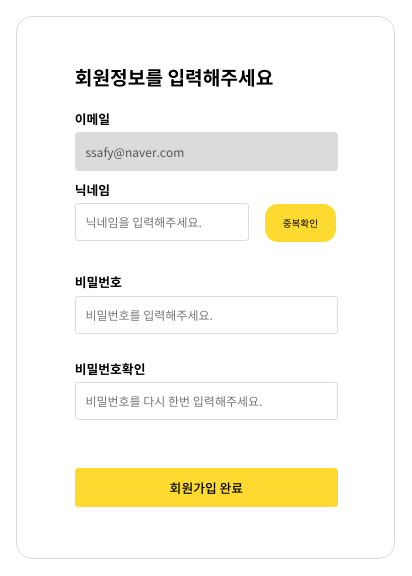
회원가입 디테일페이지 › 비밀번호 형식 틀림
Step 1. Type "1234567" into the password field with placeholder "비밀번호를 입력해주세요." → coordinates (206, 315), box [75,296,338,334]
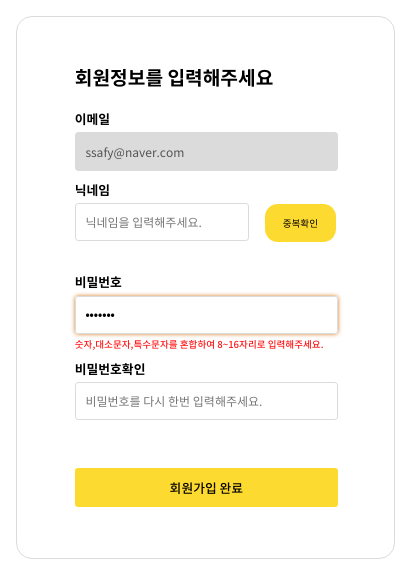
Expected: the text "숫자,대소문자,특수문자를 혼합하여 8~16자리로 입력해주세요." is shown, [75,340,336,350]
